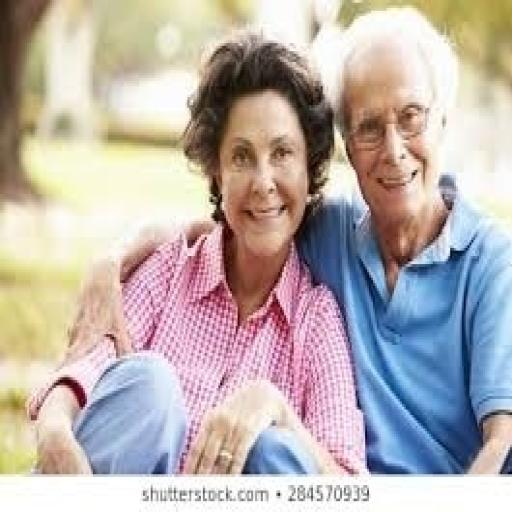sitting: (27, 30, 369, 474)
